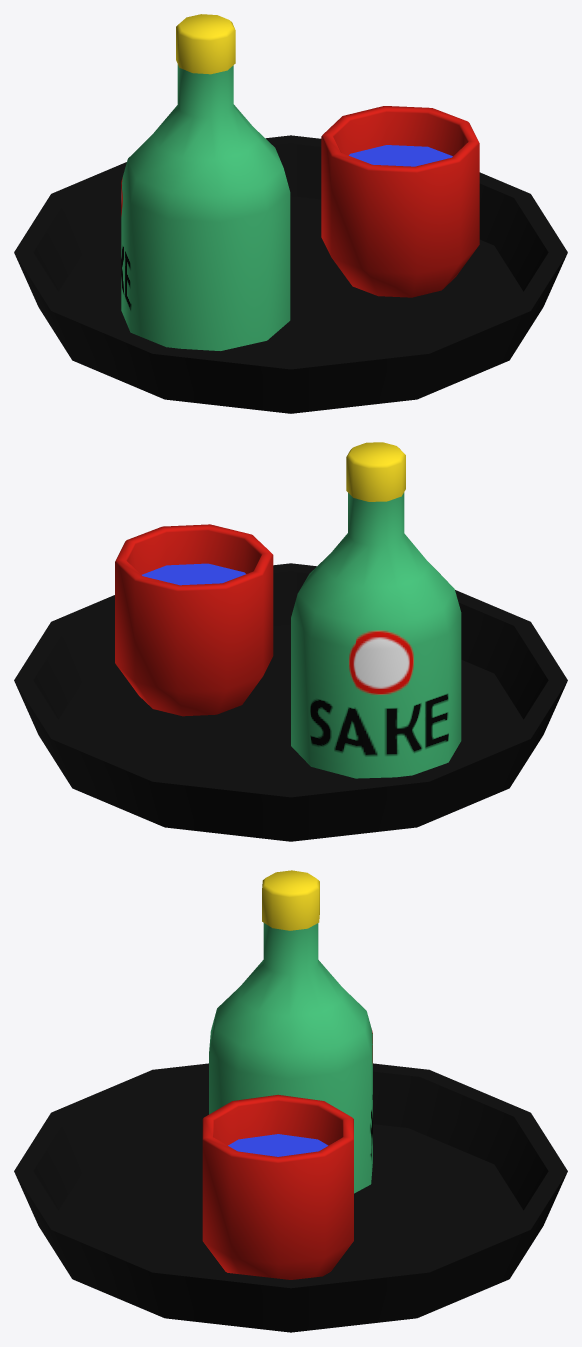
The model's file is khay san pham ruou sake.FBX.
The picture shows the model from 3 angles, top to bottom: view 1: azimuth 30°, elevation 25°; view 2: azimuth 150°, elevation 25°; view 3: azimuth 270°, elevation 25°; orthographic projection.
Parts seen in each view (by area): view 1: Cylinder139; view 2: Cylinder139; view 3: Cylinder139.
Boxes of the visible parts, x1,y1,x2,y2 form: Cylinder139: [14, 14, 567, 413]; Cylinder139: [14, 442, 567, 841]; Cylinder139: [14, 870, 567, 1332].
Size of the model in its own units: 2.1 by 1.27 by 2.1.
